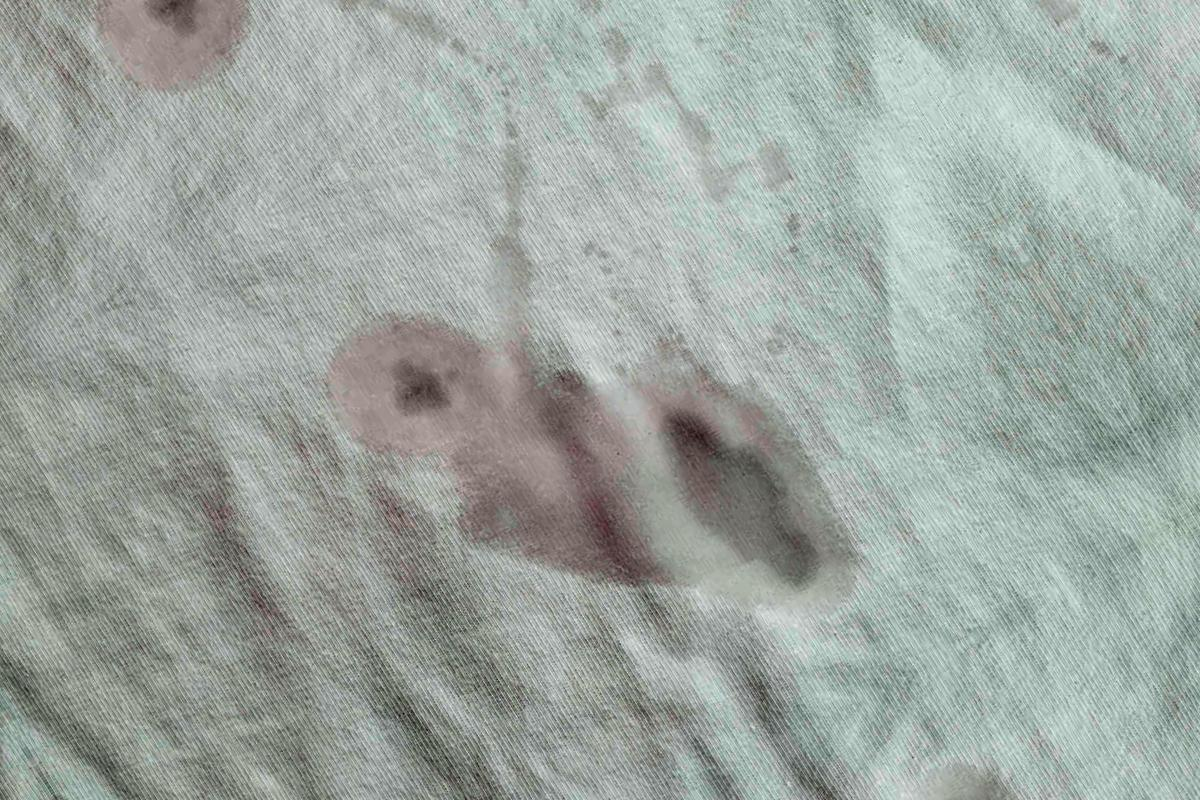stain: (320, 300, 881, 633), (78, 0, 261, 108)
